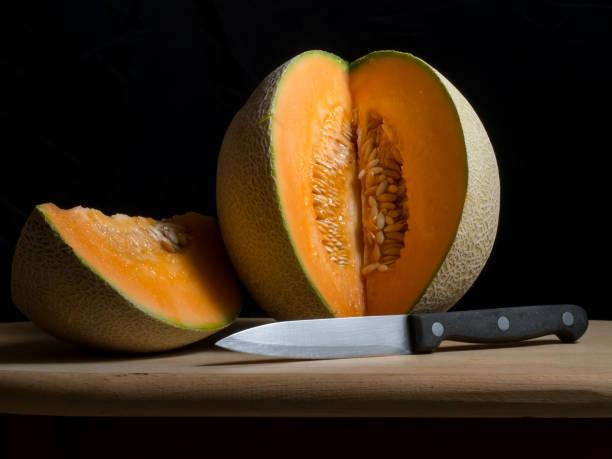Melon Ripe: (217, 48, 501, 312), (16, 204, 238, 352)
